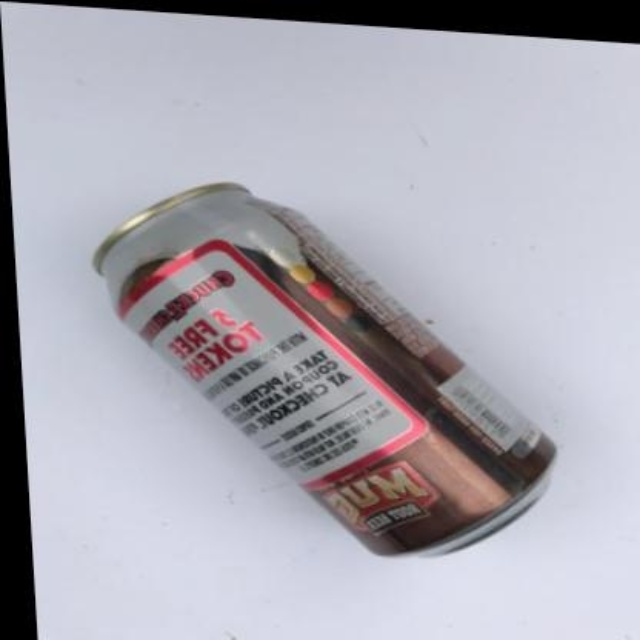trash: (94, 183, 554, 552)
